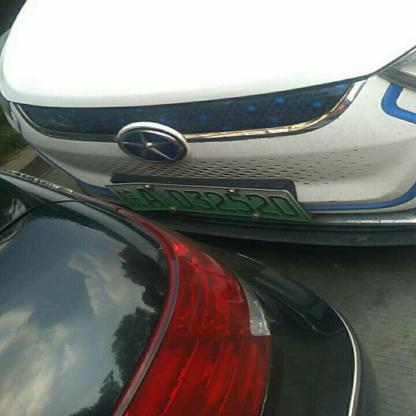lp: (106, 185, 312, 223)
